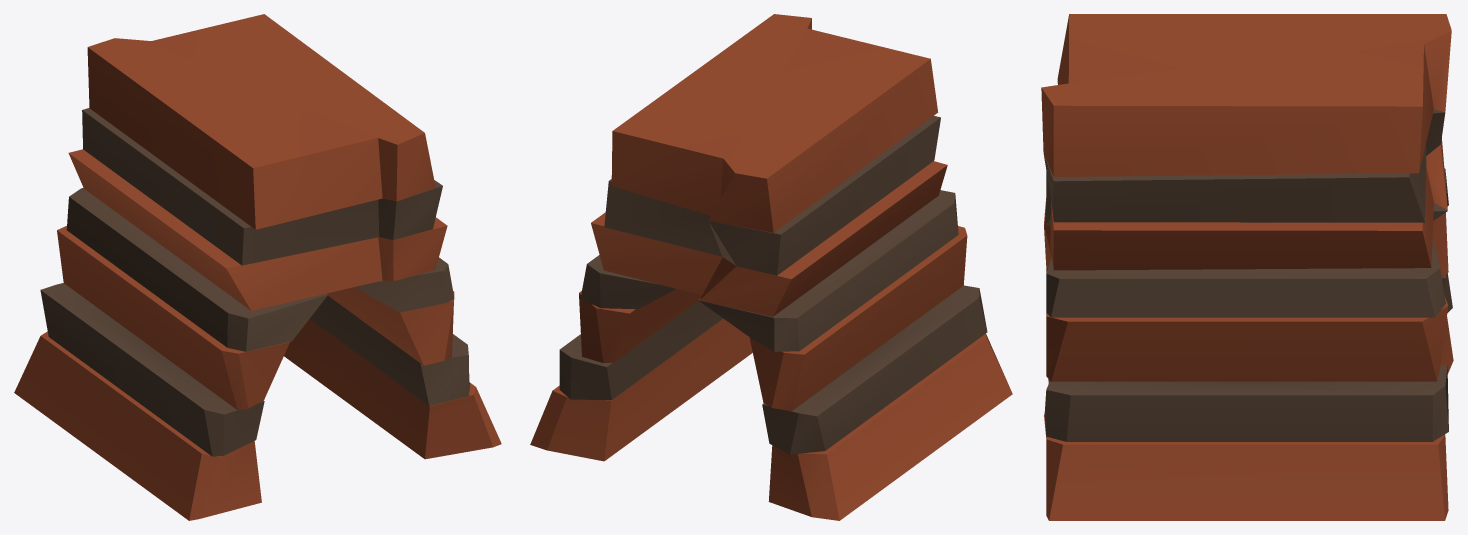
File: arch.glb
The picture shows the model from 3 angles, left to right: view 1: azimuth 30°, elevation 25°; view 2: azimuth 150°, elevation 25°; view 3: azimuth 270°, elevation 25°; orthographic projection. The views are drawn at different scales.
Visible parts, largest first — view 1: hard, soft; view 2: hard, soft; view 3: hard, soft.
Part boxes in pixels (box(x1,y1,x2,y2)): hard: box(14, 14, 501, 520); soft: box(40, 108, 469, 456); hard: box(530, 14, 1012, 520); soft: box(559, 116, 987, 454); hard: box(1041, 14, 1453, 520); soft: box(1043, 109, 1452, 441).
Bounding box in the file's own units: 1 × 1 × 1.
